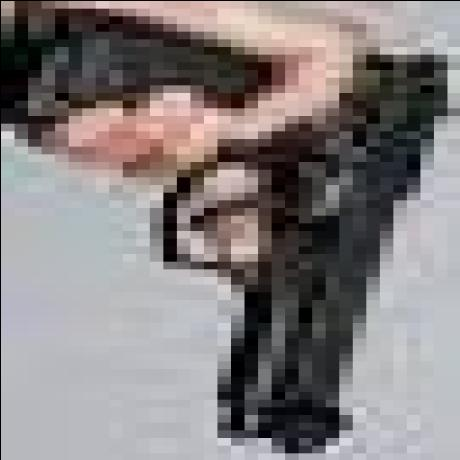weapon: (9, 40, 452, 454)
